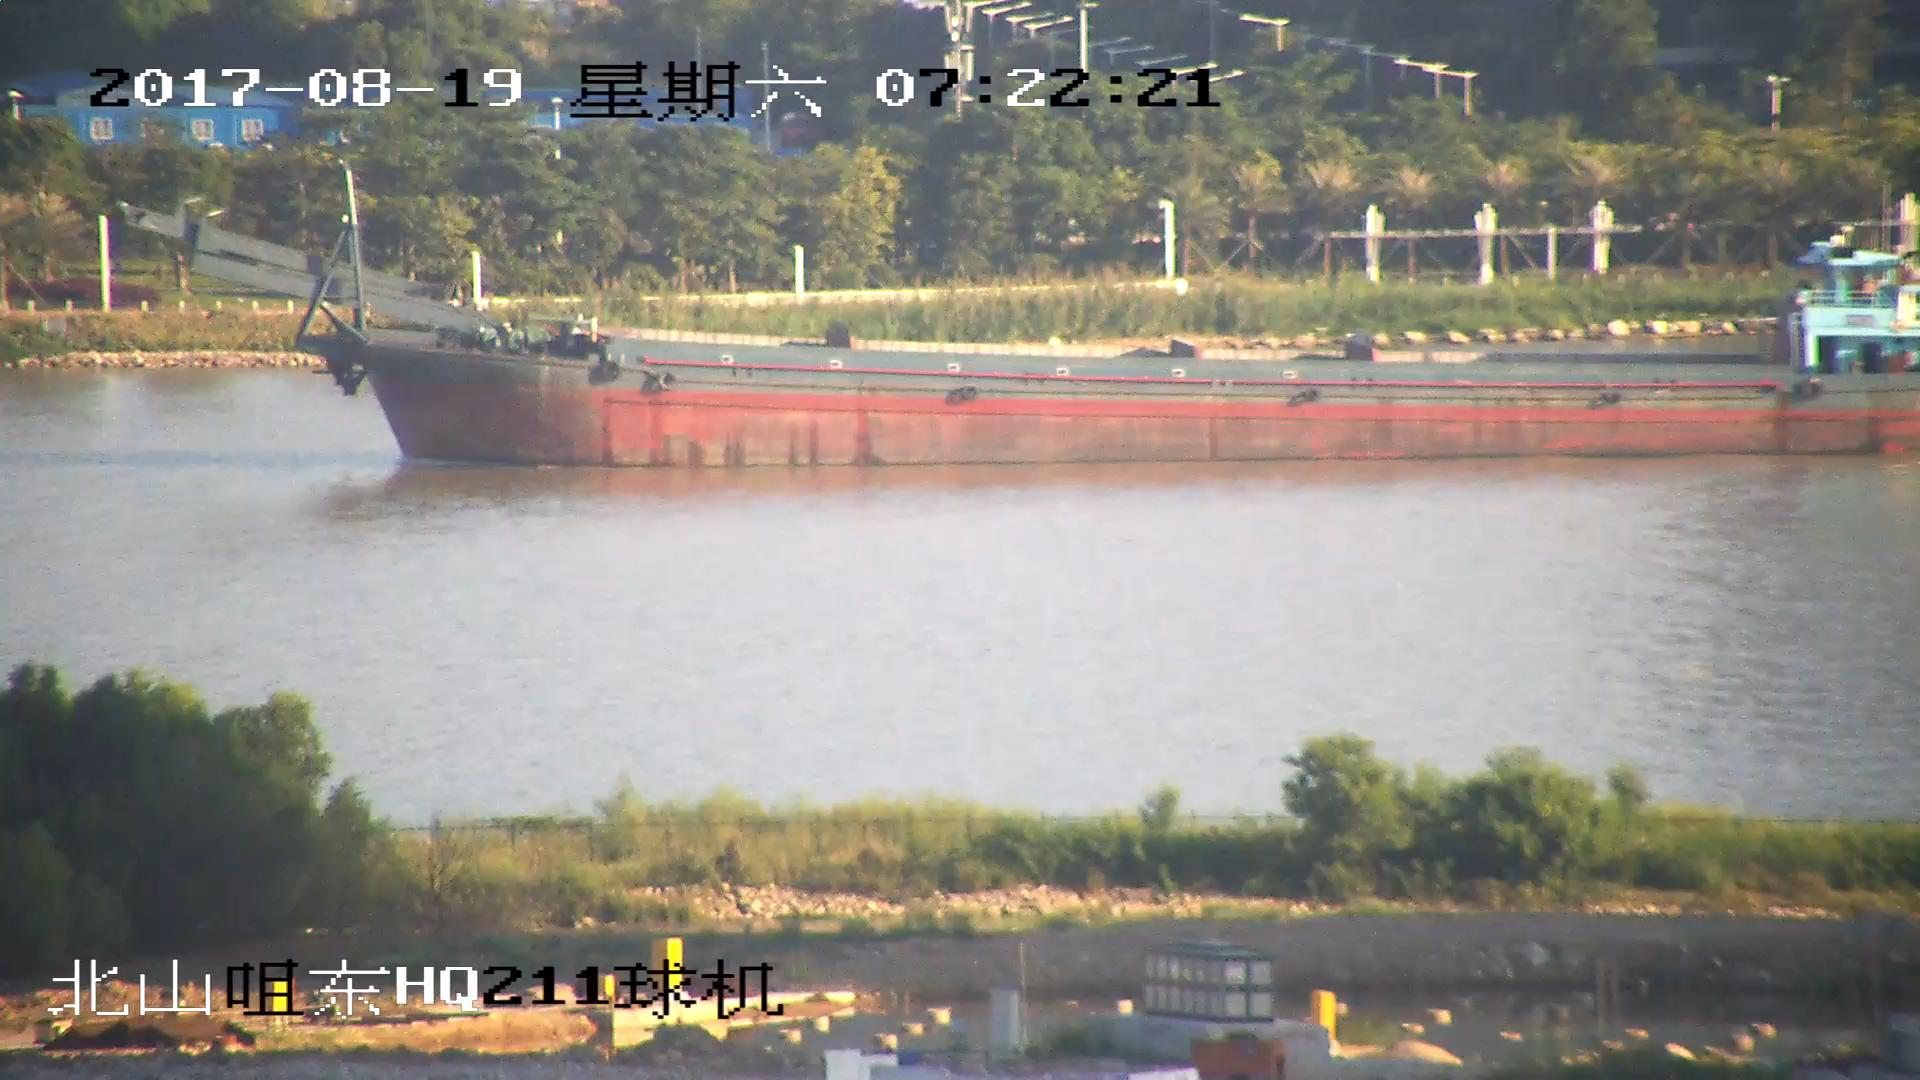Ship: (113, 170, 1920, 465)
